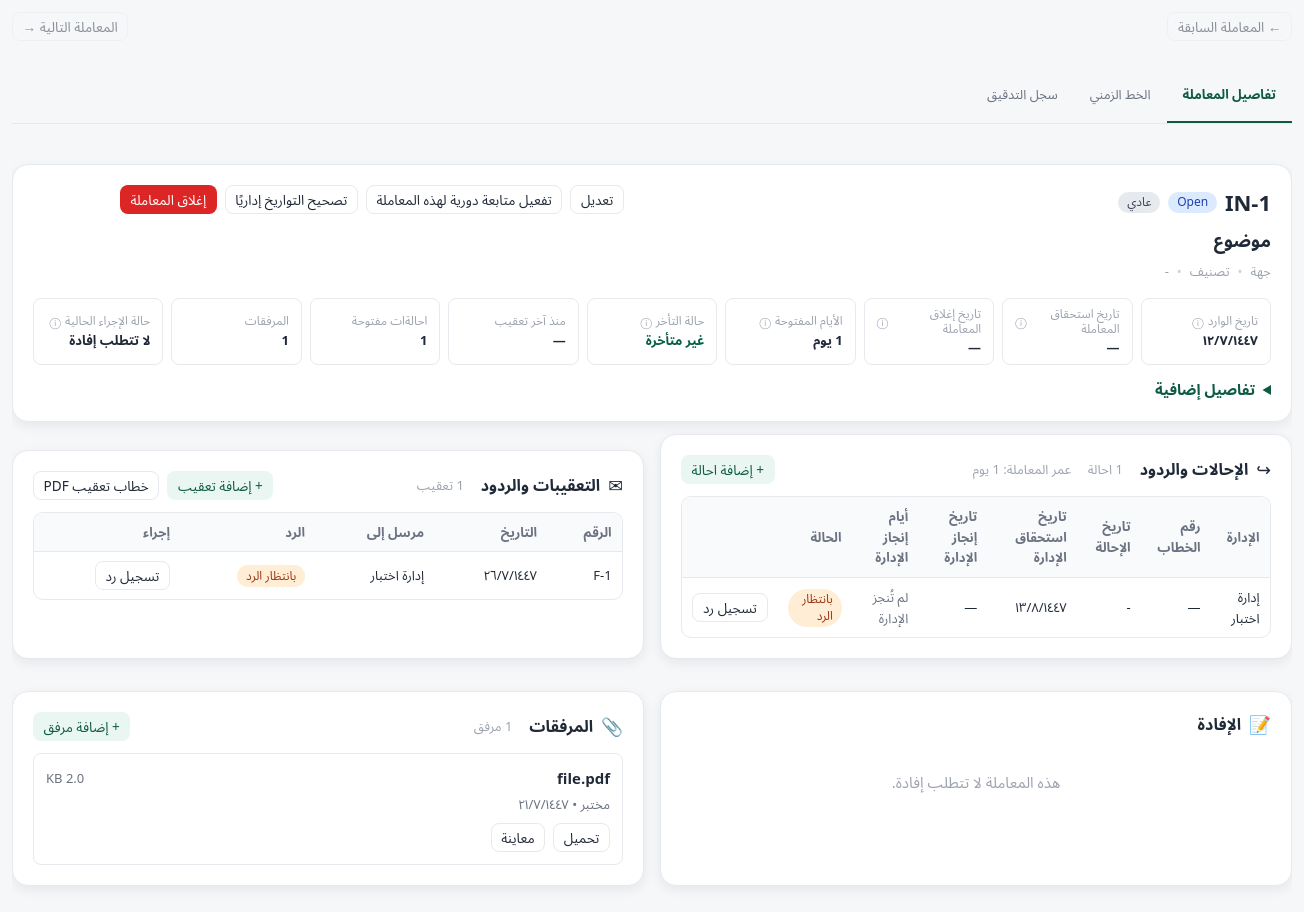
TransactionDetailPage three-tab layout › loads audit log only after opening its tab
The image size is (1304, 912).
Click the tab "سجل التدقيق" at [1022, 96], box [971,69,1074,123]
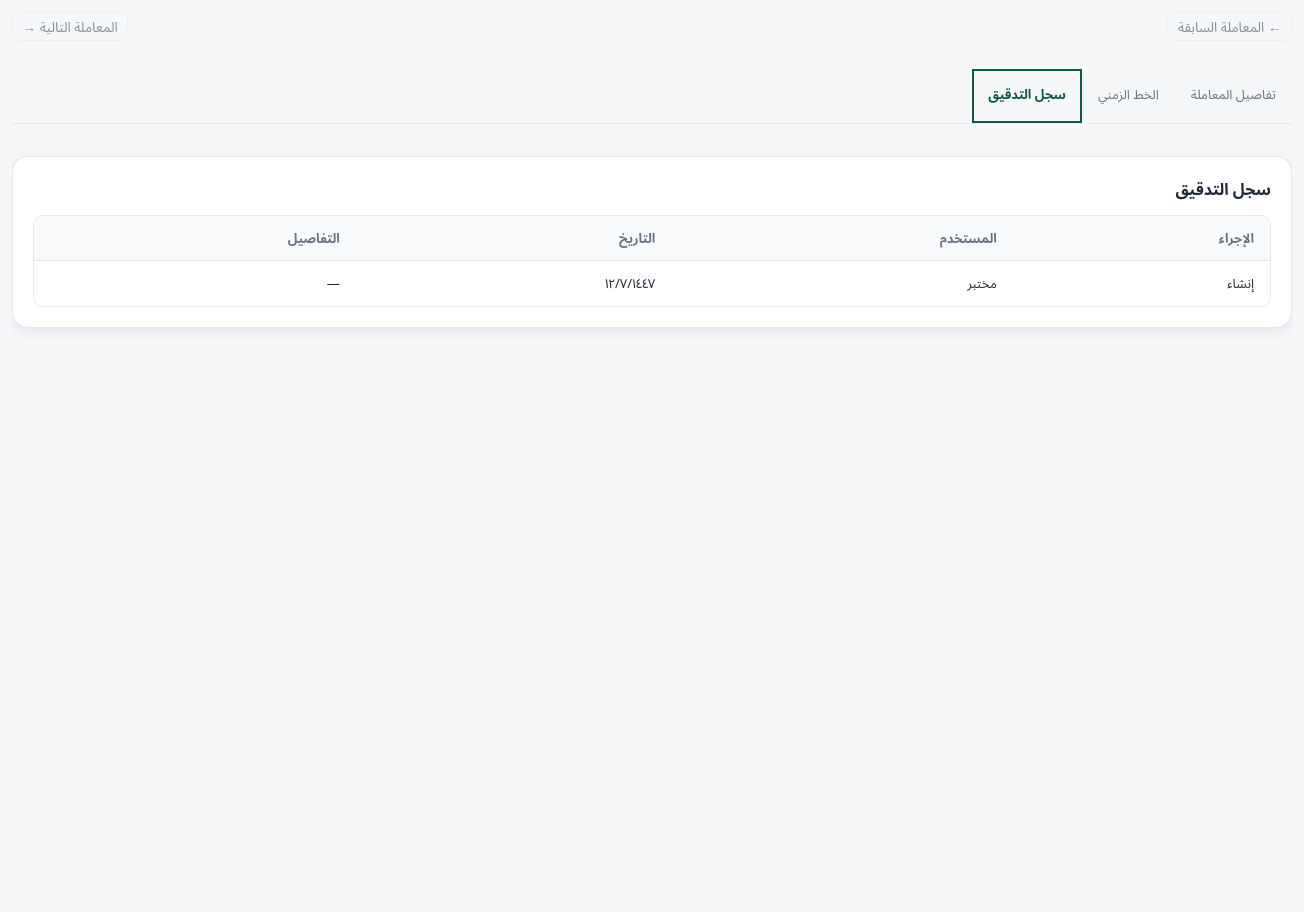
Expected: the heading "سجل التدقيق" is shown, [1175,177,1271,203]
